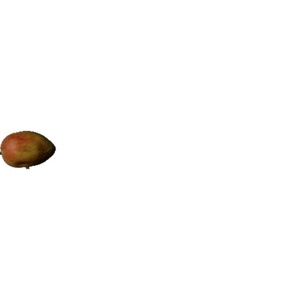mamão: (2, 127, 60, 177)
